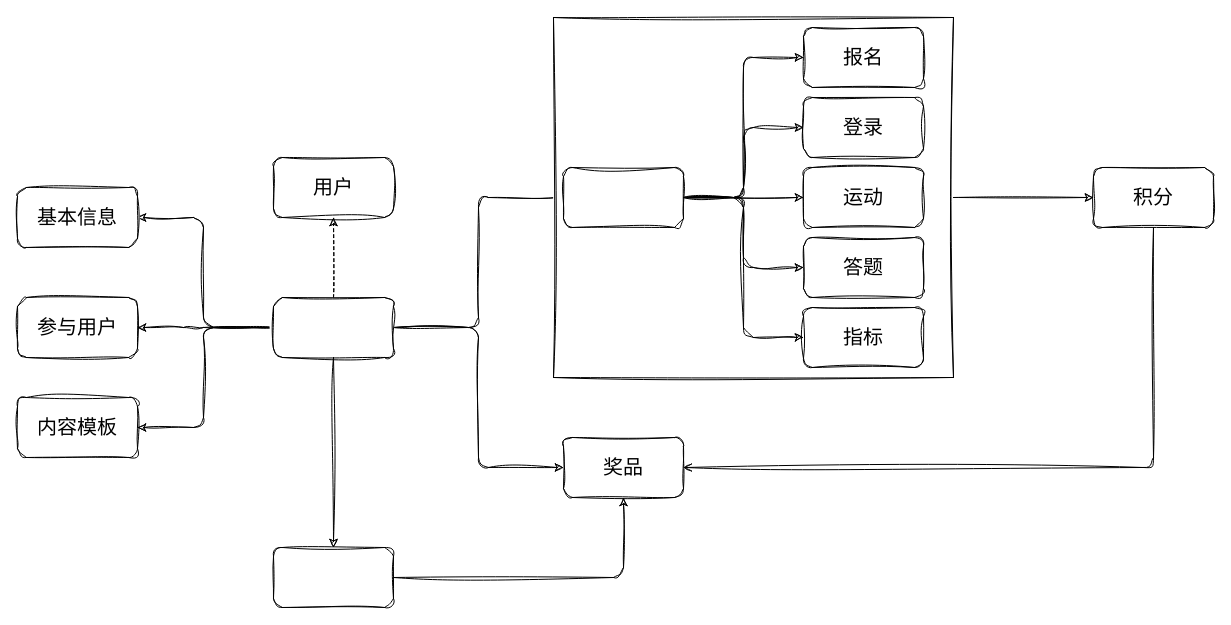
This 1231x625 diagram has some shape labels left out. Here are the shapes that lost their labels. From the top down, the box of each, then its label:
(562, 166, 684, 228): 任务
(272, 296, 394, 358): 活动
(272, 546, 394, 608): 地址
